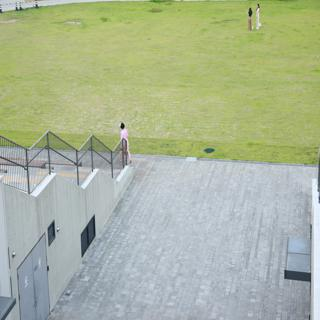person: (112, 115, 139, 175), (244, 2, 254, 35), (255, 2, 266, 32)
